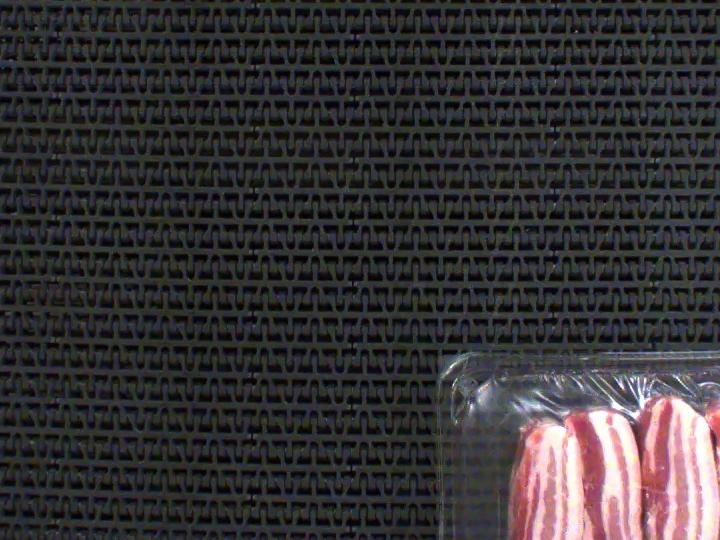unsealed: (440, 342, 720, 540)
